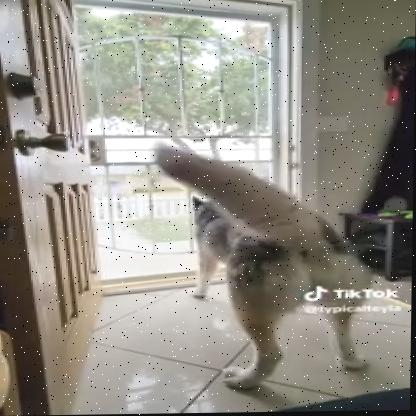dog: (140, 140, 407, 397)
